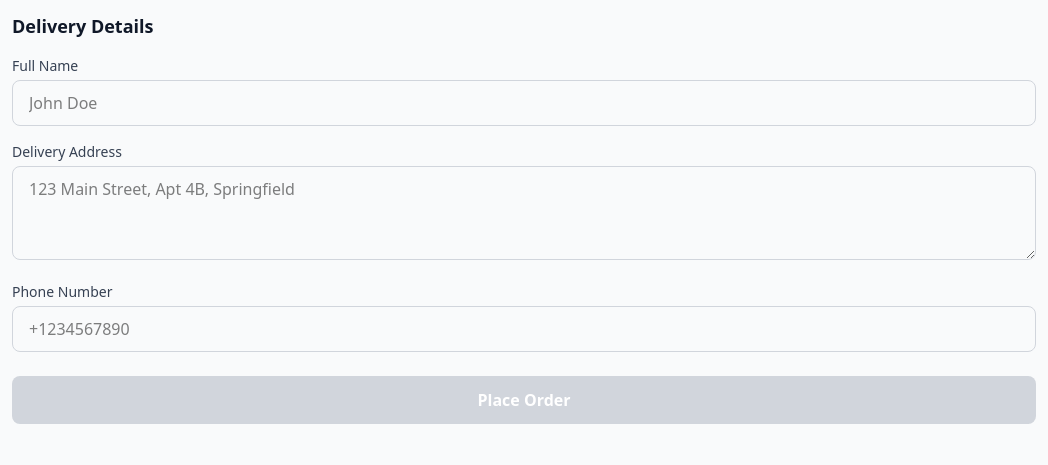
Test case: CheckoutForm › shows validation error on blur for short address
The width and height of the screenshot is (1048, 465).
Type "AB" into the text box labelled "Delivery Address". click: (524, 213)
box: [12,166,1036,260]
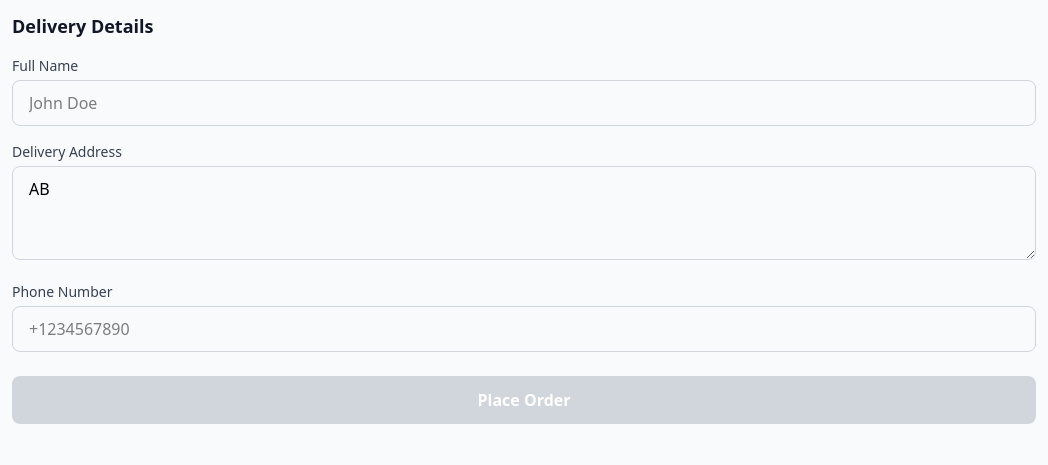
Leave the text box labelled "Delivery Address", box [12,166,1036,260]
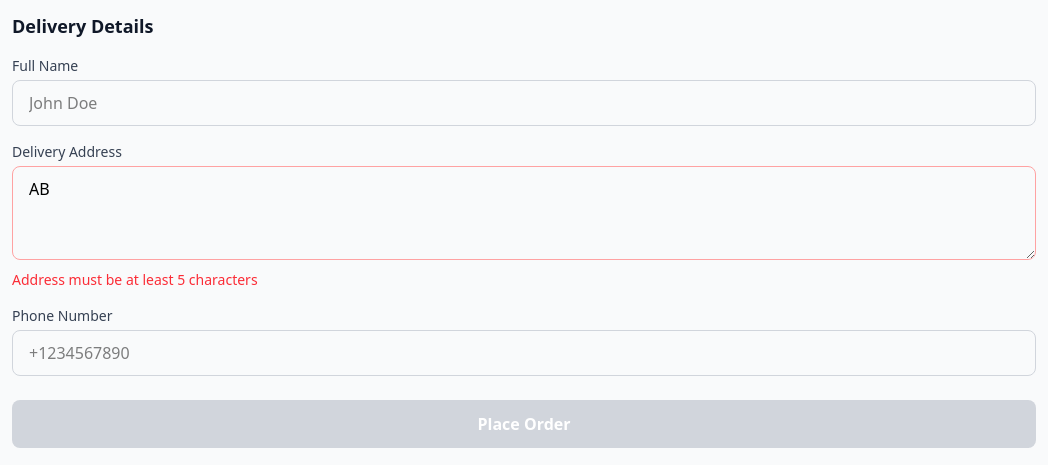
Check: the text "Address must be at least 5 characters" is shown, box [12,270,258,289]
